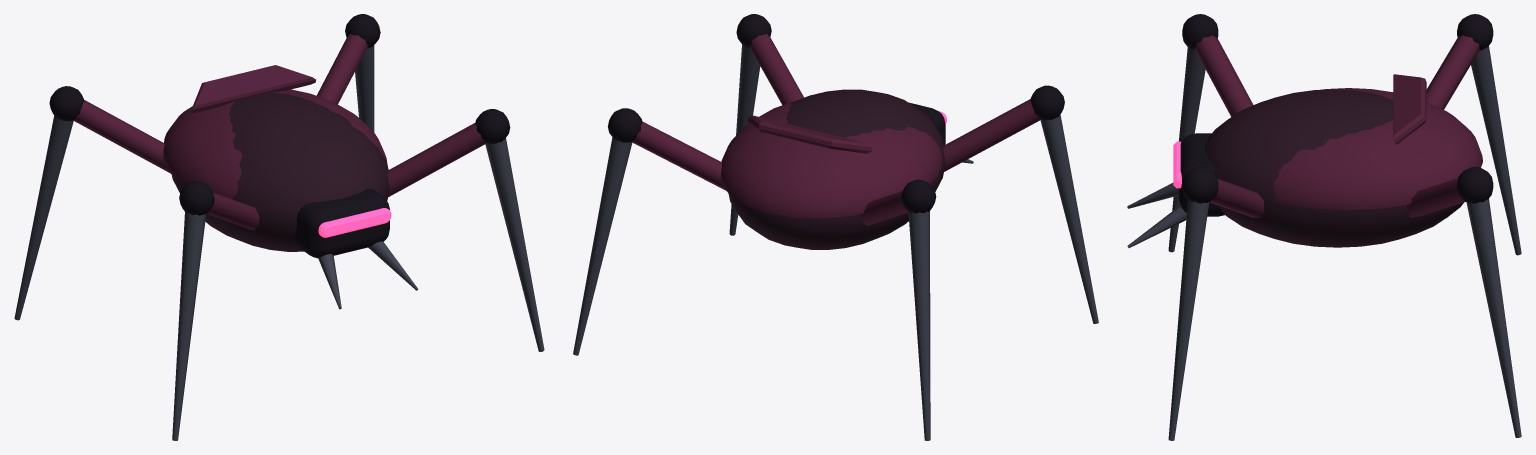
The model's file is grunt.glb.
3 renders of one model, left to right at view 1: azimuth 30°, elevation 25°; view 2: azimuth 150°, elevation 25°; view 3: azimuth 270°, elevation 25°, orthographic. The views are drawn at different scales.
Parts seen in each view (by area): view 1: body:hull, body:plate, body:dark, legFR:alloy, legFL:alloy, legBR:alloy, legFL:plate, legBR:plate, legBL:plate, legBL:alloy, body:alloy, body:glow (+5 smaller); view 2: body:plate, body:hull, legBR:alloy, legBL:alloy, legFR:alloy, legFR:plate, legBL:plate, legFL:plate, legFL:alloy, legBR:plate, legBR:dark, legFR:dark (+2 smaller); view 3: body:hull, body:plate, legBL:alloy, legFL:alloy, legBR:alloy, legFR:plate, legBR:plate, legFR:alloy, body:dark, legBL:plate, legFL:plate, body:alloy (+4 smaller).
Boxes of the visible parts, x1,y1,x2,y2 form: body:hull: (172, 92, 389, 251); body:plate: (163, 65, 387, 199); body:dark: (294, 188, 389, 258); legFR:alloy: (172, 212, 206, 440); legFL:alloy: (485, 138, 544, 351); legBR:alloy: (14, 115, 73, 320); legFL:plate: (387, 123, 486, 196); legBR:plate: (73, 100, 169, 172); legBL:plate: (316, 34, 368, 104); legBL:alloy: (355, 45, 374, 132); body:alloy: (318, 241, 417, 309); body:glow: (318, 208, 391, 237); body:plate: (720, 100, 942, 218); body:hull: (728, 89, 945, 249); legBR:alloy: (908, 211, 930, 440); legBL:alloy: (573, 137, 632, 355); legFR:alloy: (1040, 114, 1098, 323); legFR:plate: (943, 99, 1041, 171); legBL:plate: (632, 121, 725, 190); legFL:plate: (749, 33, 803, 104); legFL:alloy: (729, 44, 760, 235); legBR:plate: (860, 191, 908, 225); legBR:dark: (901, 179, 936, 213); legFR:dark: (1030, 85, 1064, 120); body:hull: (1204, 89, 1463, 247); body:plate: (1273, 74, 1482, 209); legBL:alloy: (1466, 199, 1521, 437); legFL:alloy: (1168, 200, 1209, 440); legBR:alloy: (1471, 46, 1521, 255); legFR:plate: (1195, 35, 1253, 116); legBR:plate: (1426, 35, 1479, 109); legFR:alloy: (1168, 47, 1205, 252); body:dark: (1178, 133, 1224, 216); legBL:plate: (1406, 178, 1465, 217); legFL:plate: (1209, 178, 1264, 217); body:alloy: (1127, 183, 1186, 247).
Size of the model in its own units: 1.26 by 0.7743 by 1.09.
